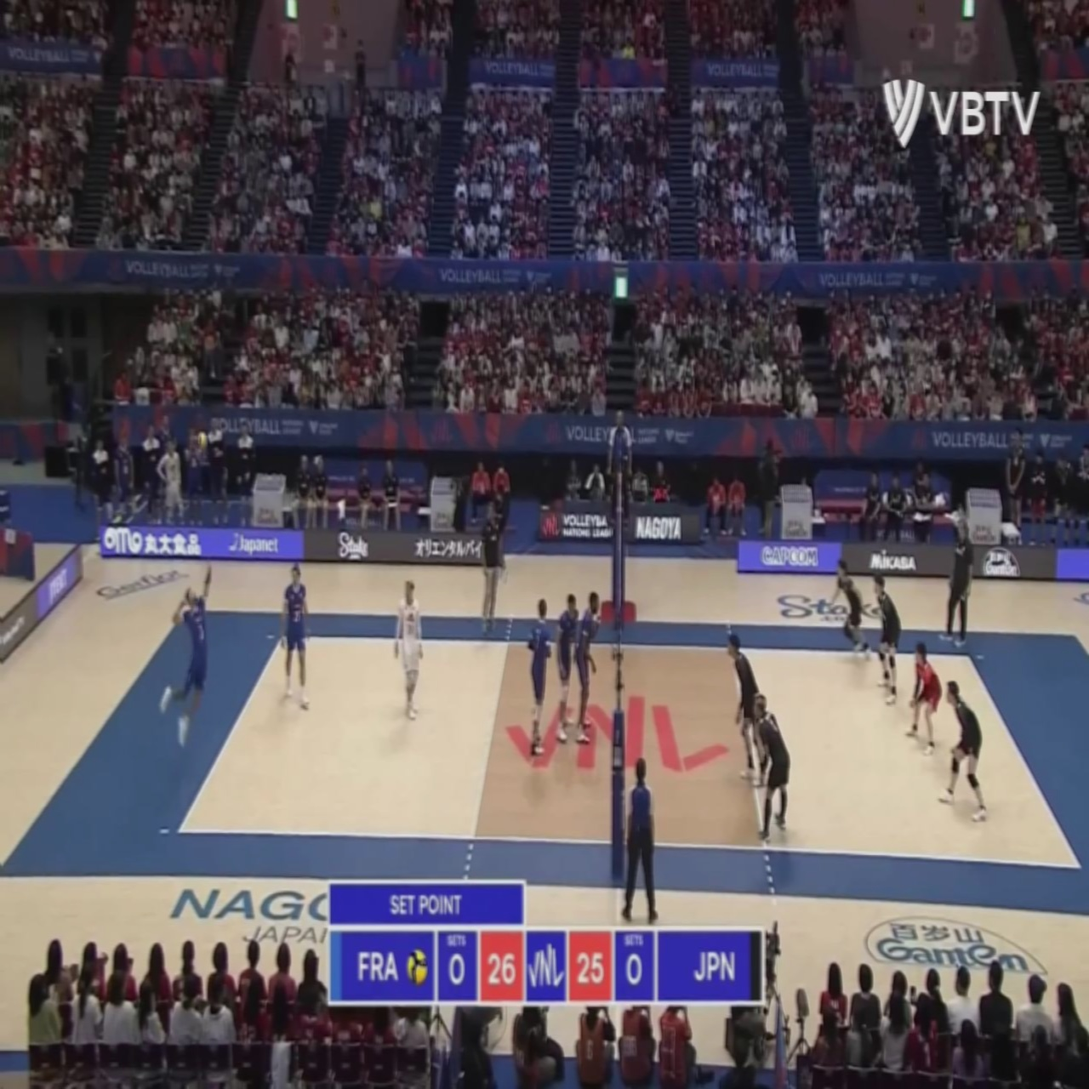ball: (195, 432, 205, 450)
